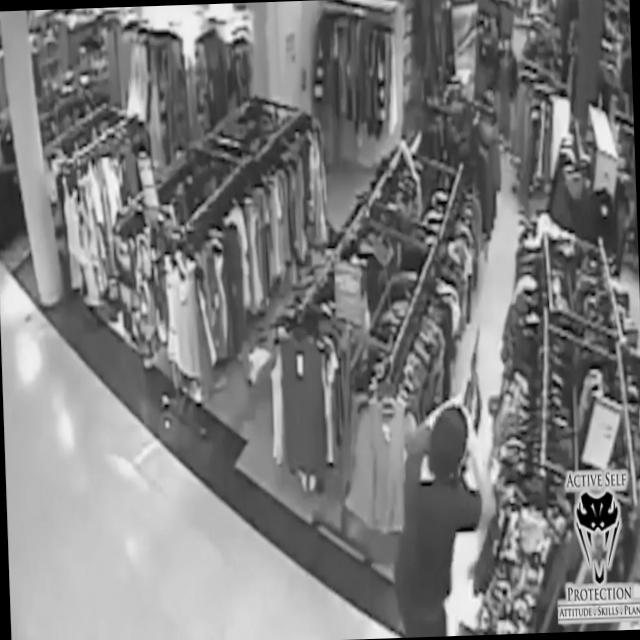gun: (457, 324, 487, 439)
person with a gun: (384, 328, 502, 634)
